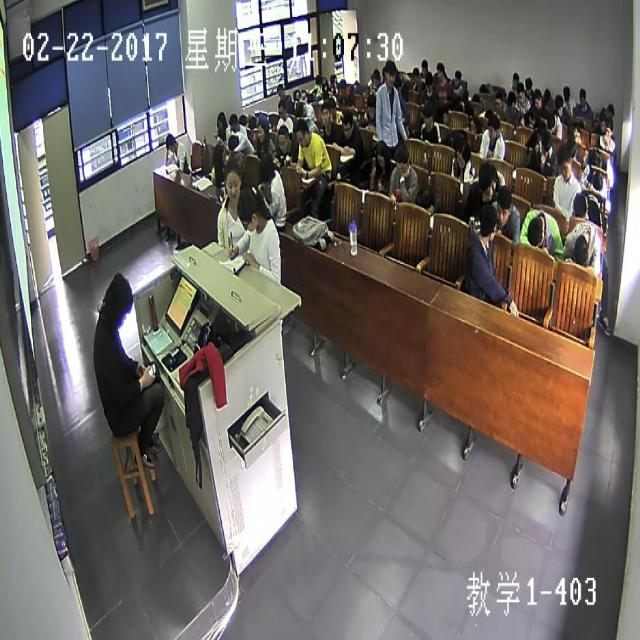person: (103, 272, 133, 325), (238, 184, 260, 234), (480, 204, 496, 244), (478, 162, 494, 202), (224, 161, 240, 197), (497, 188, 510, 226), (527, 214, 544, 243), (394, 145, 409, 176), (573, 234, 588, 265), (558, 147, 572, 179), (488, 158, 501, 192), (591, 167, 605, 198), (294, 120, 309, 146), (575, 190, 588, 219), (258, 152, 272, 178), (375, 144, 388, 170), (420, 181, 433, 206), (341, 110, 353, 136), (455, 142, 468, 166), (564, 133, 577, 157), (320, 103, 332, 128), (383, 62, 396, 85), (212, 141, 225, 163), (422, 104, 435, 124), (540, 131, 550, 157), (487, 117, 498, 140), (326, 94, 337, 116), (554, 92, 564, 116), (278, 128, 288, 151), (436, 57, 446, 80), (365, 96, 375, 118), (577, 84, 587, 106), (604, 119, 614, 140), (166, 131, 177, 150), (419, 55, 430, 74), (561, 80, 570, 102), (411, 66, 421, 85), (215, 110, 224, 130), (256, 122, 266, 140), (277, 100, 286, 120), (454, 97, 466, 112), (590, 146, 600, 164), (228, 132, 239, 148), (526, 108, 535, 127), (229, 111, 238, 129), (338, 77, 347, 95), (320, 75, 328, 95), (425, 72, 433, 92), (452, 68, 462, 84), (506, 90, 514, 110), (542, 85, 550, 105), (537, 120, 545, 140), (328, 72, 337, 89), (276, 80, 284, 99), (515, 84, 523, 103), (544, 109, 552, 128), (469, 116, 478, 132), (571, 120, 580, 136), (300, 88, 311, 101), (471, 90, 482, 103), (533, 86, 540, 106), (606, 100, 614, 117), (479, 79, 488, 94), (372, 68, 379, 87), (599, 113, 606, 132), (297, 101, 307, 114), (248, 112, 256, 128), (239, 110, 247, 126), (524, 76, 532, 92), (483, 107, 491, 122), (494, 90, 501, 106), (511, 70, 518, 86)
